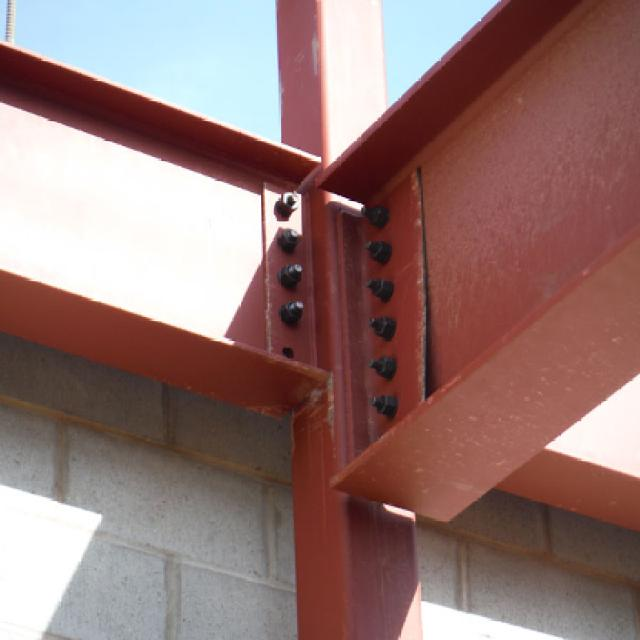Missing bolt: (275, 340, 303, 368)
Rusty bolt: (364, 352, 406, 384), (369, 392, 405, 426), (360, 202, 395, 232), (279, 260, 310, 293), (368, 238, 394, 273), (275, 226, 303, 258), (370, 275, 397, 308), (283, 301, 312, 331), (271, 190, 302, 218), (371, 311, 397, 343)
